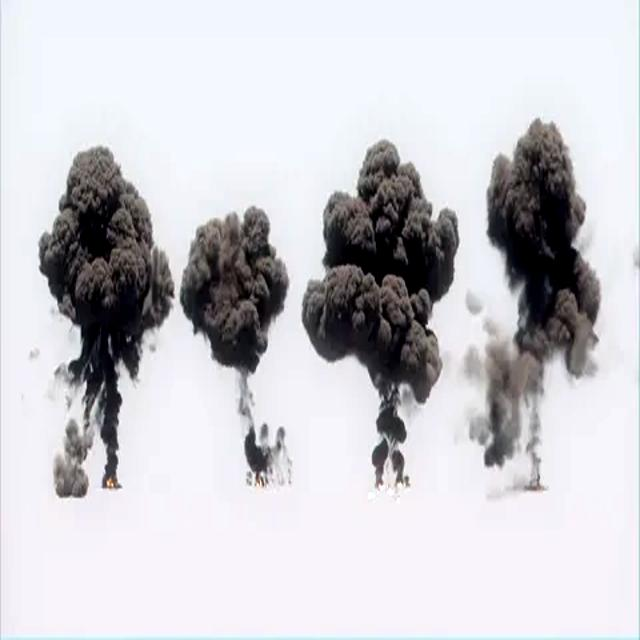no_helmet: (304, 140, 460, 501), (466, 119, 602, 494), (36, 144, 175, 498), (181, 143, 294, 490)
